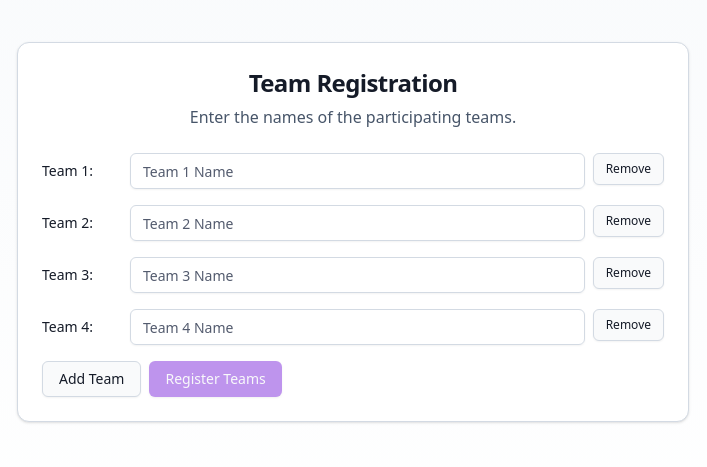
Test: TeamRegistration › allows adding more teams
Click the button "Add Team".
click(92, 379)  # box [42,361,142,397]
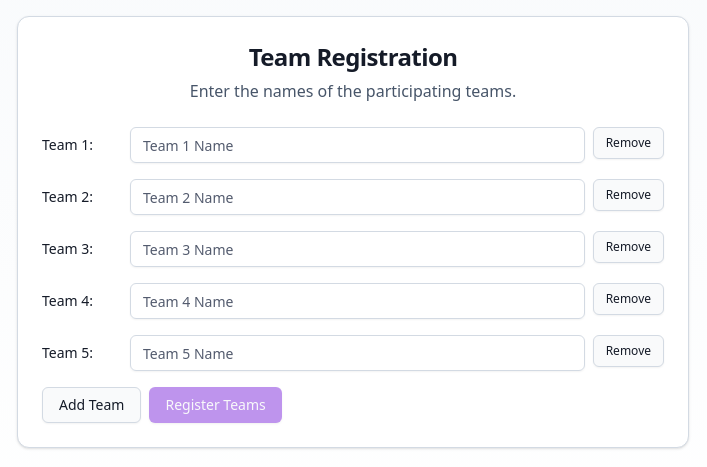
Result: the text "Team 5:" is shown at [42,343,93,362]
Result: the field with placeholder "Team 5 Name" is shown at [130,335,585,371]
